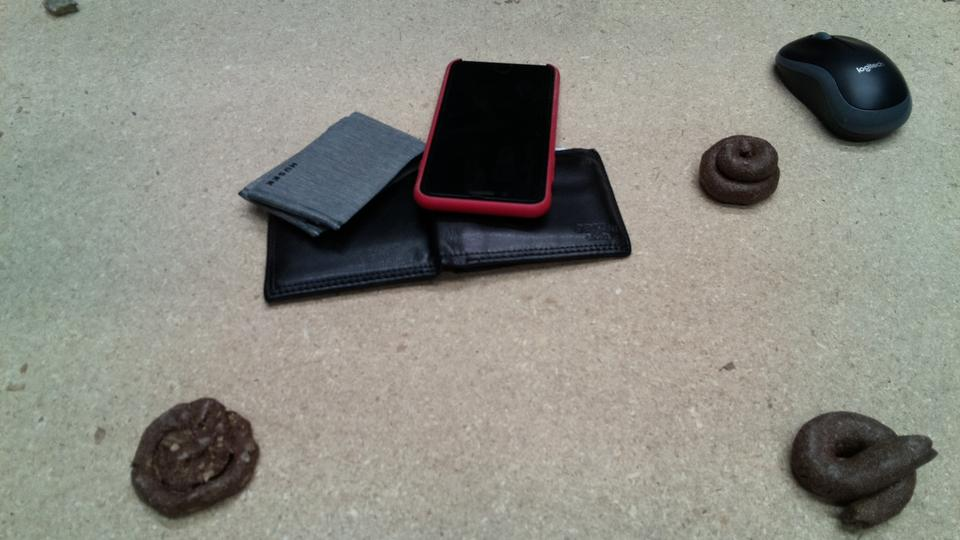poop: (788, 410, 941, 534), (126, 395, 262, 523), (696, 132, 784, 211)
